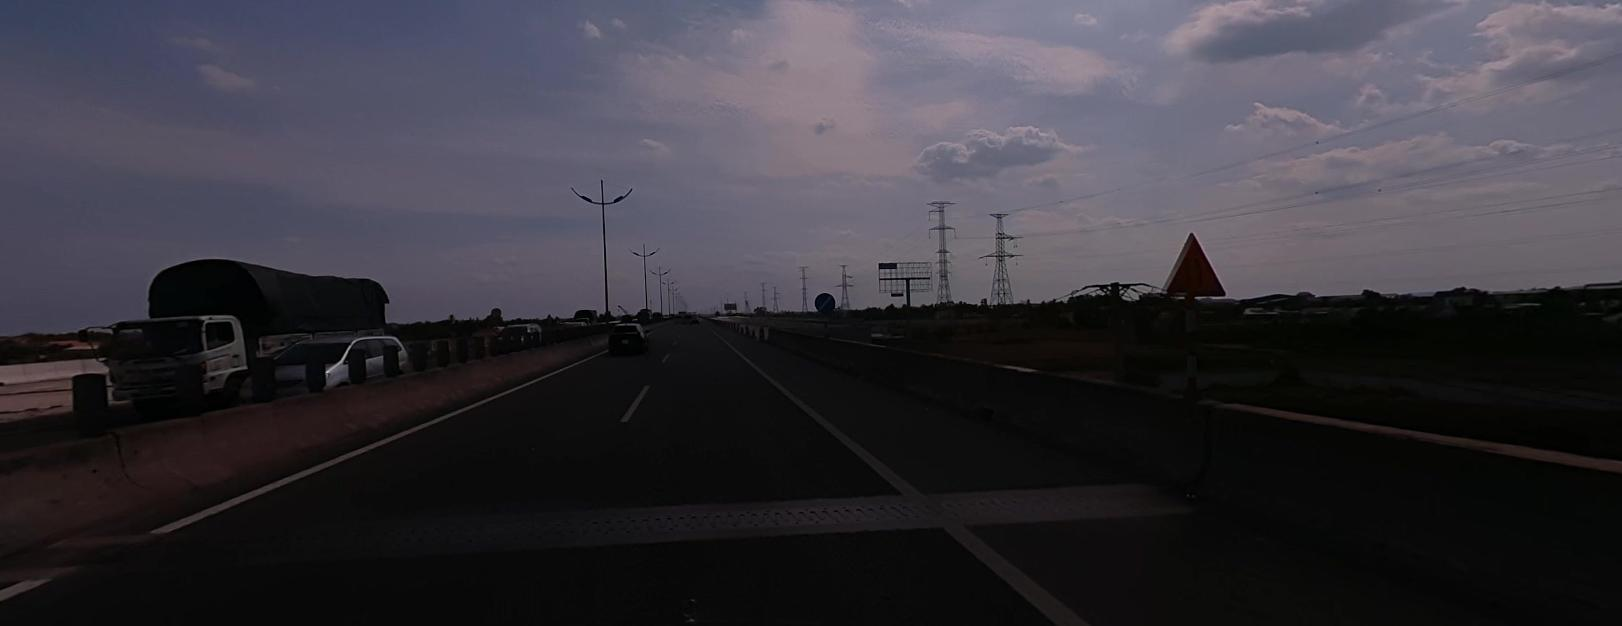Hieu lenh: (812, 289, 836, 312)
Nguy hiem: (1156, 228, 1232, 300)
